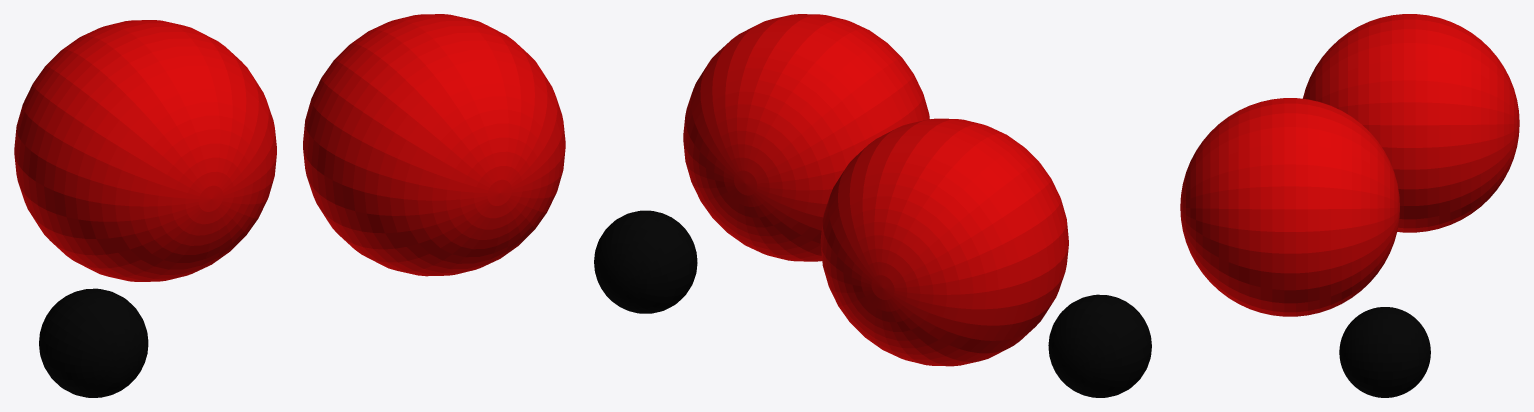
The model's file is Hydrogen Peroxide.glb.
The picture shows the model from 3 angles, left to right: view 1: azimuth 30°, elevation 25°; view 2: azimuth 150°, elevation 25°; view 3: azimuth 270°, elevation 25°; orthographic projection. The views are drawn at different scales.
Parts seen in each view (by area): view 1: world; view 2: world; view 3: world.
Part boxes in pixels (x1=…): world: x1=14, y1=14, x2=565, y2=397; world: x1=594, y1=14, x2=1151, y2=397; world: x1=1180, y1=14, x2=1519, y2=397.
Size of the model in its own units: 2.81 by 1.5 by 1.85.
